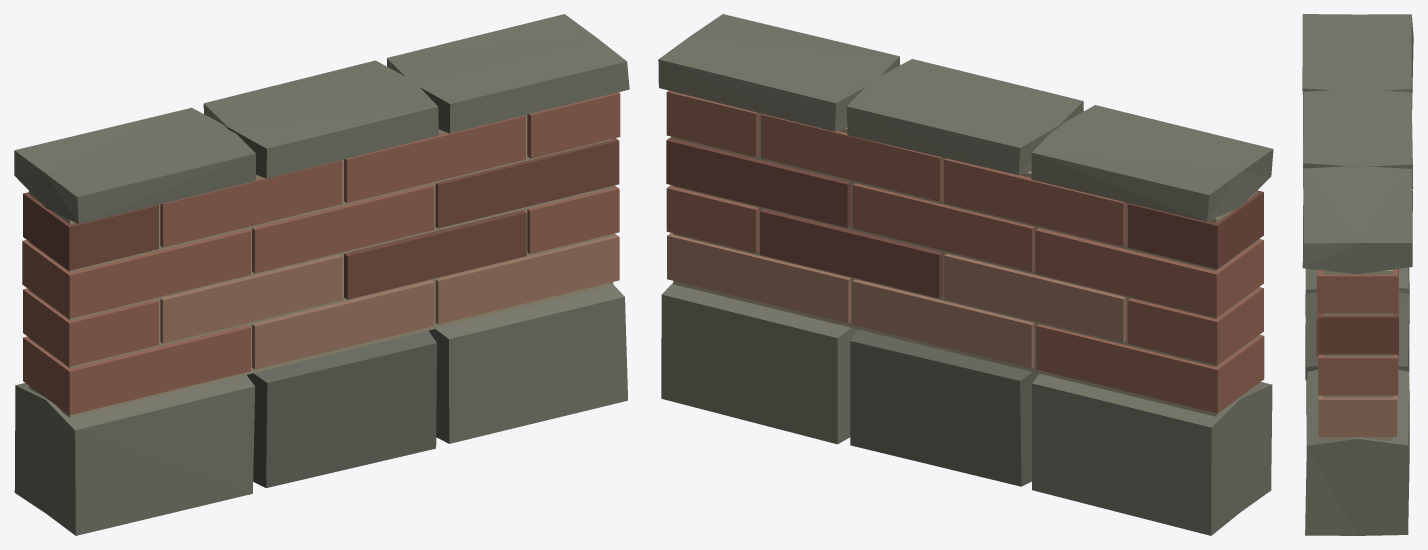
File: wall_brick_low.glb
3 views of the same model, side by side, from view 1: azimuth 30°, elevation 25°; view 2: azimuth 150°, elevation 25°; view 3: azimuth 270°, elevation 25° (orthographic). The views are drawn at different scales.
Parts seen in each view (by area): view 1: Wall_Brick_Low; view 2: Wall_Brick_Low; view 3: Wall_Brick_Low.
Boxes of the visible parts, x1,y1,x2,y2 form: Wall_Brick_Low: (14,14,629,535); Wall_Brick_Low: (658,14,1273,535); Wall_Brick_Low: (1302,14,1413,535).
Bounding box in the file's own units: 1.52 × 0.9047 × 0.3099.
